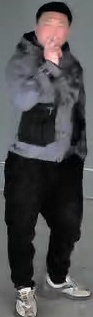smoking: (15, 19, 72, 126)
